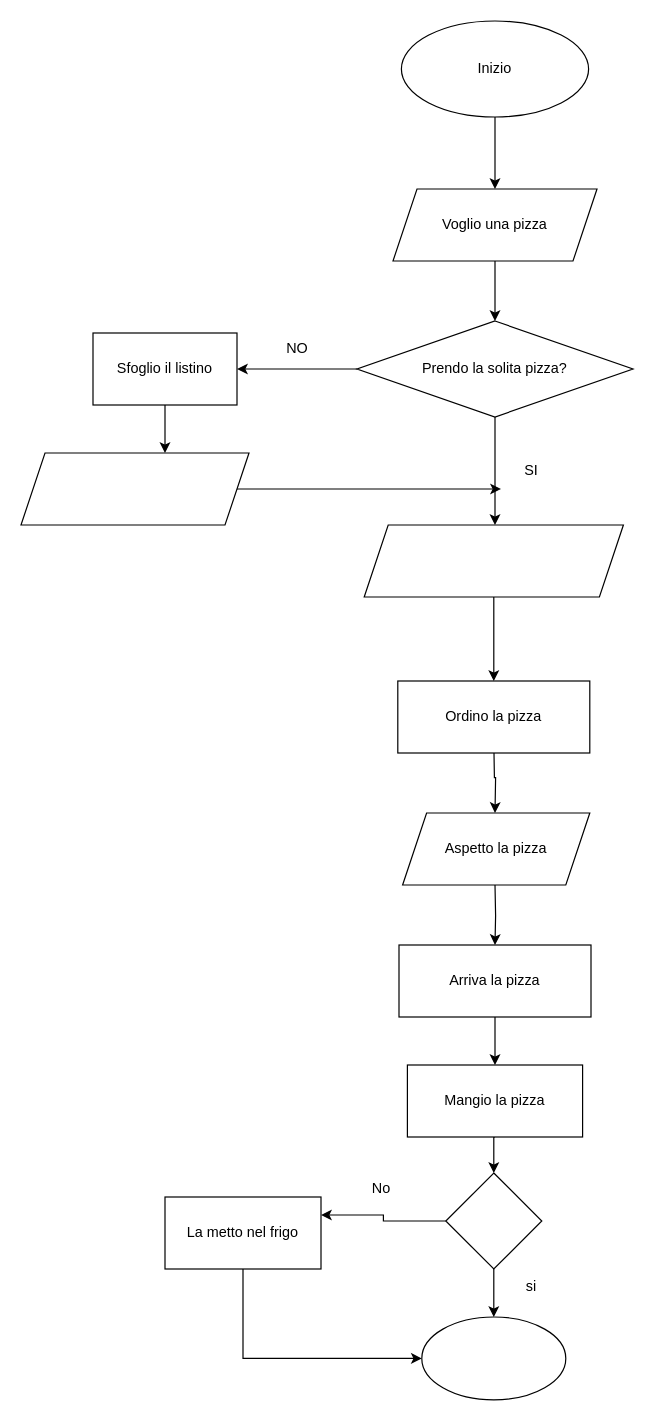
This 654x1421 diagram has some shape labels left out. Each missing label, with the centre of its shape:
"Fine" goes at point (493, 1358).
"La finisco?" goes at point (493, 1220).
"Nessuna delle altre pizze mi ispira" goes at point (134, 488).
"Prendo la prosciutto e funghi" goes at point (493, 560).
